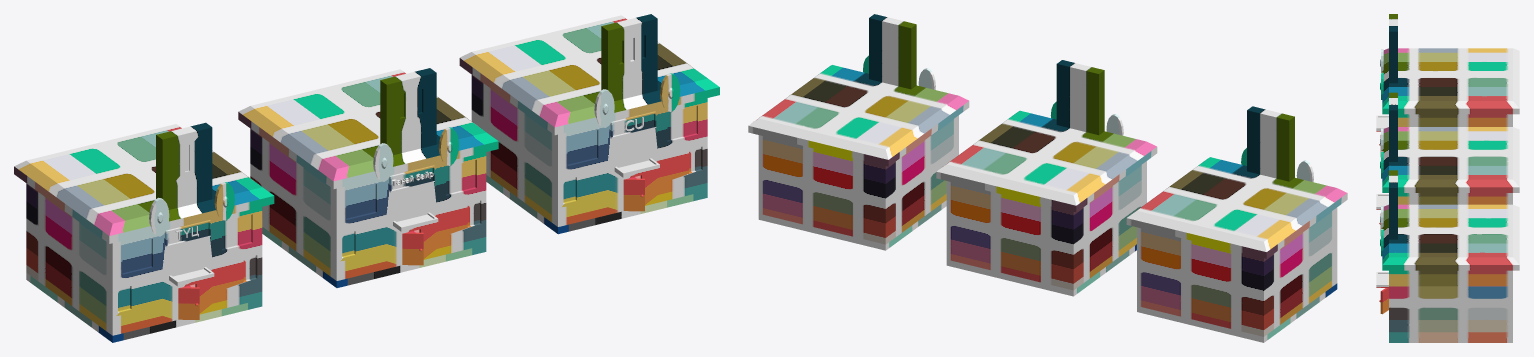
The model's file is Houses.fbx.
3 views of the same model, side by side, from view 1: azimuth 30°, elevation 25°; view 2: azimuth 150°, elevation 25°; view 3: azimuth 270°, elevation 25° (orthographic). The views are drawn at different scales.
Parts seen in each view (by area): view 1: Houses; view 2: Houses; view 3: Houses.
Part boxes in pixels (x1=…): Houses: x1=14, y1=14, x2=719, y2=342; Houses: x1=748, y1=14, x2=1347, y2=342; Houses: x1=1376, y1=14, x2=1519, y2=342.
Size of the model in its own units: 1630 by 488 by 460.
